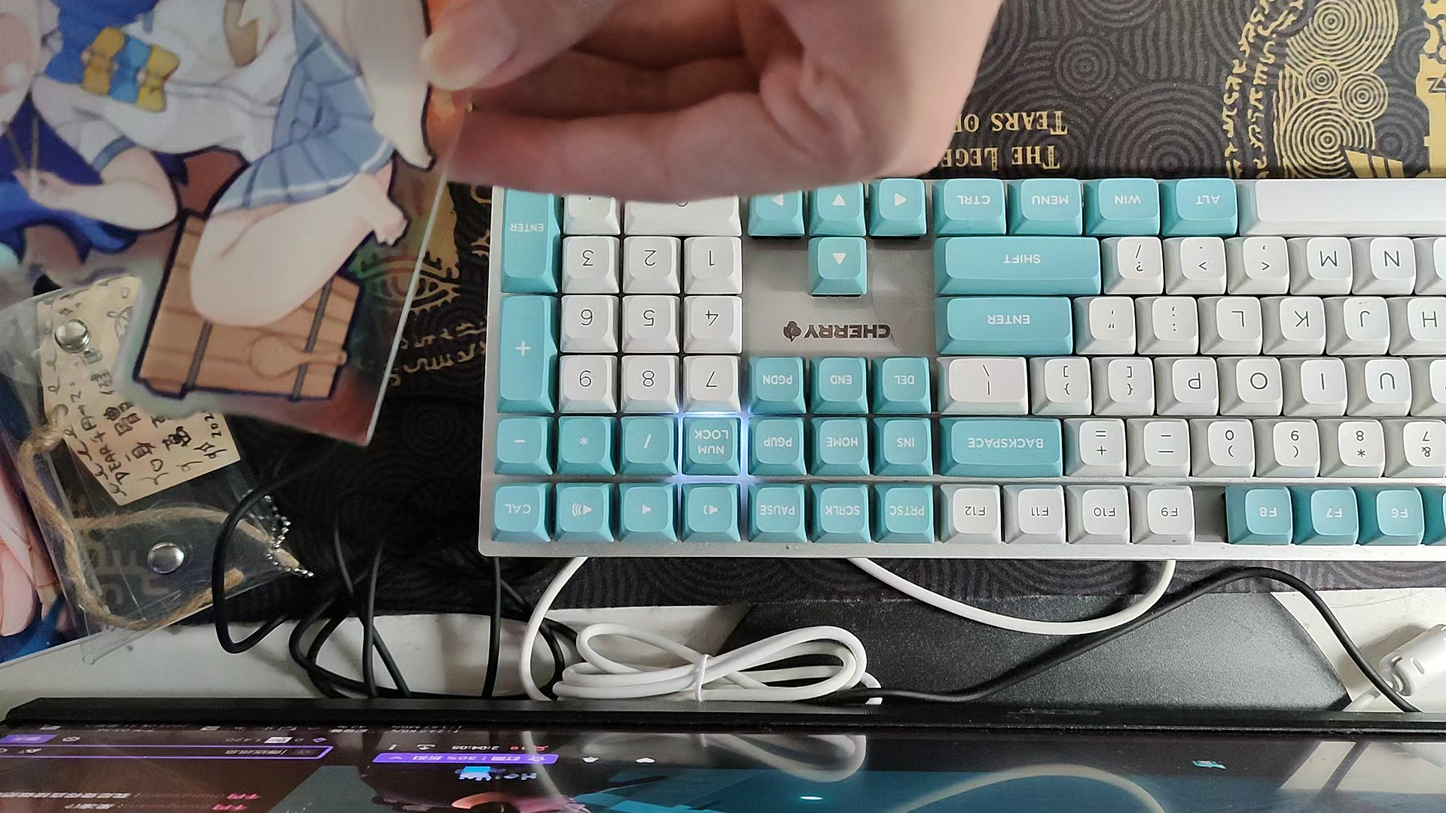Yanami-anna: (0, 0, 496, 447)
